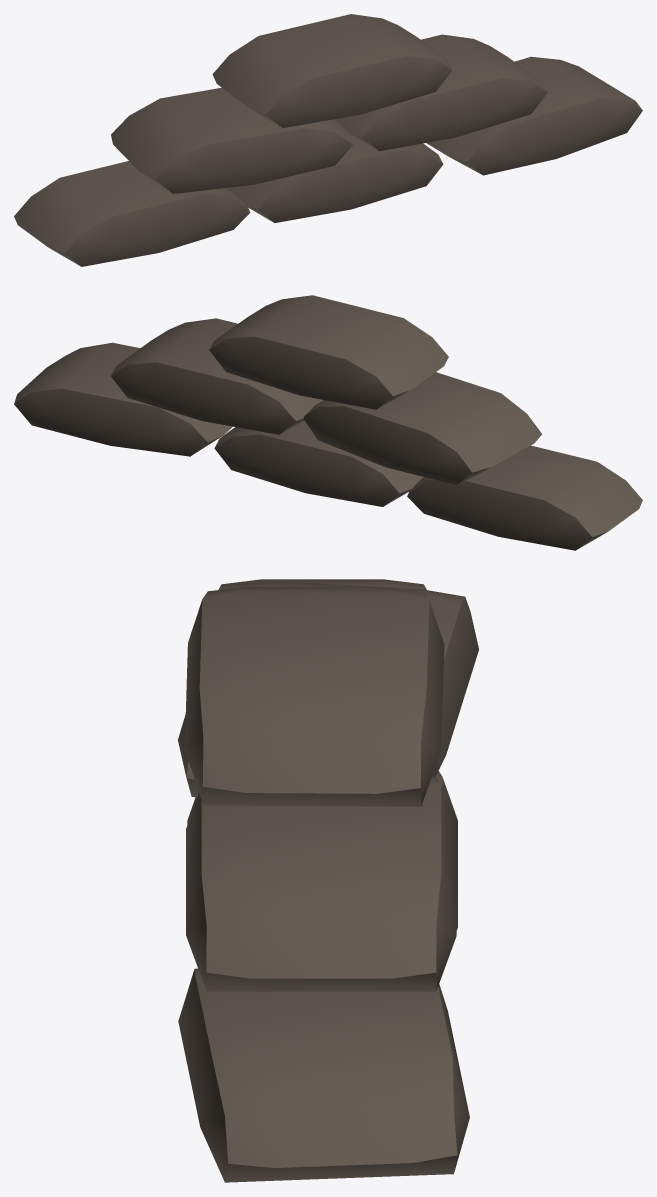
Rendered from sandbag1.fbx.
The picture shows the model from 3 angles, top to bottom: view 1: azimuth 30°, elevation 25°; view 2: azimuth 150°, elevation 25°; view 3: azimuth 270°, elevation 25°; orthographic projection. The views are drawn at different scales.
Visible parts, largest first — view 1: sandbag1; view 2: sandbag1; view 3: sandbag1.
Part boxes in pixels (x1,y1,x2,y2): sandbag1: (14, 14, 642, 266); sandbag1: (14, 295, 642, 550); sandbag1: (178, 579, 478, 1182).
Size of the model in its own units: 366 by 84.4 by 81.02.
